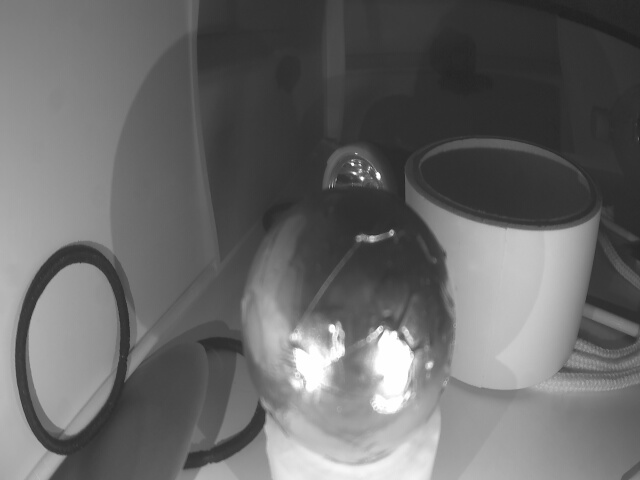Live: (243, 191, 457, 460)
